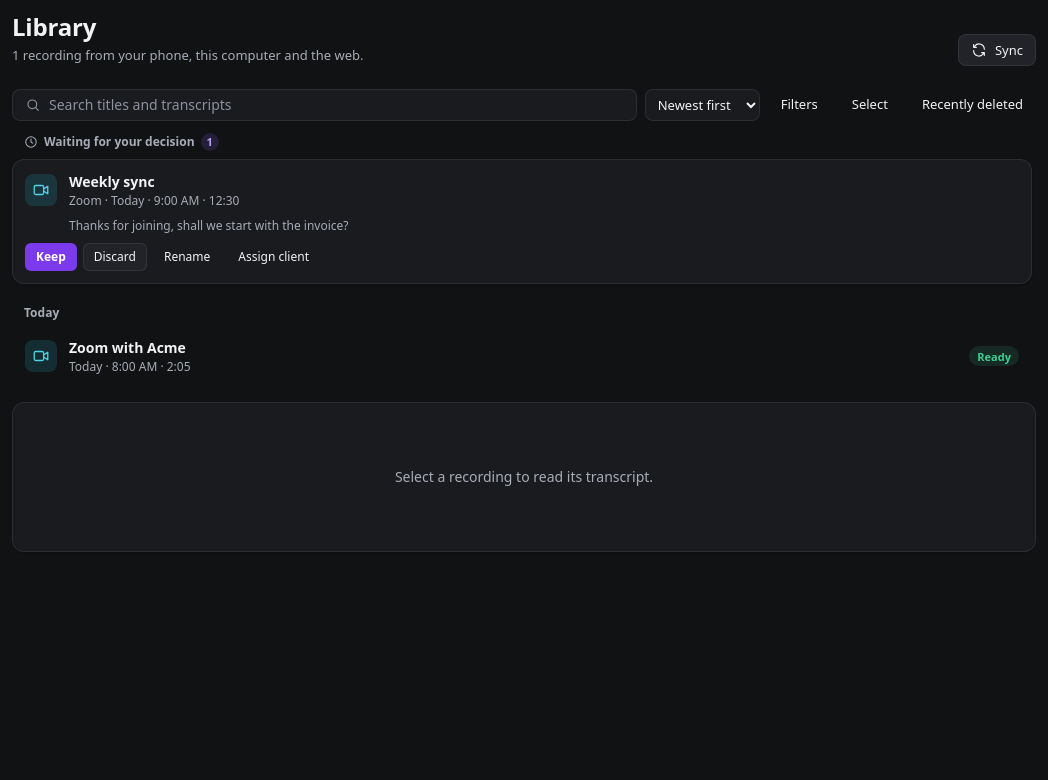
Test: Waiting for your decision: rename › opens the title for editing with the current title, focused
Click the button "Rename" at (187, 257), box left=153, top=243, right=221, bottom=271
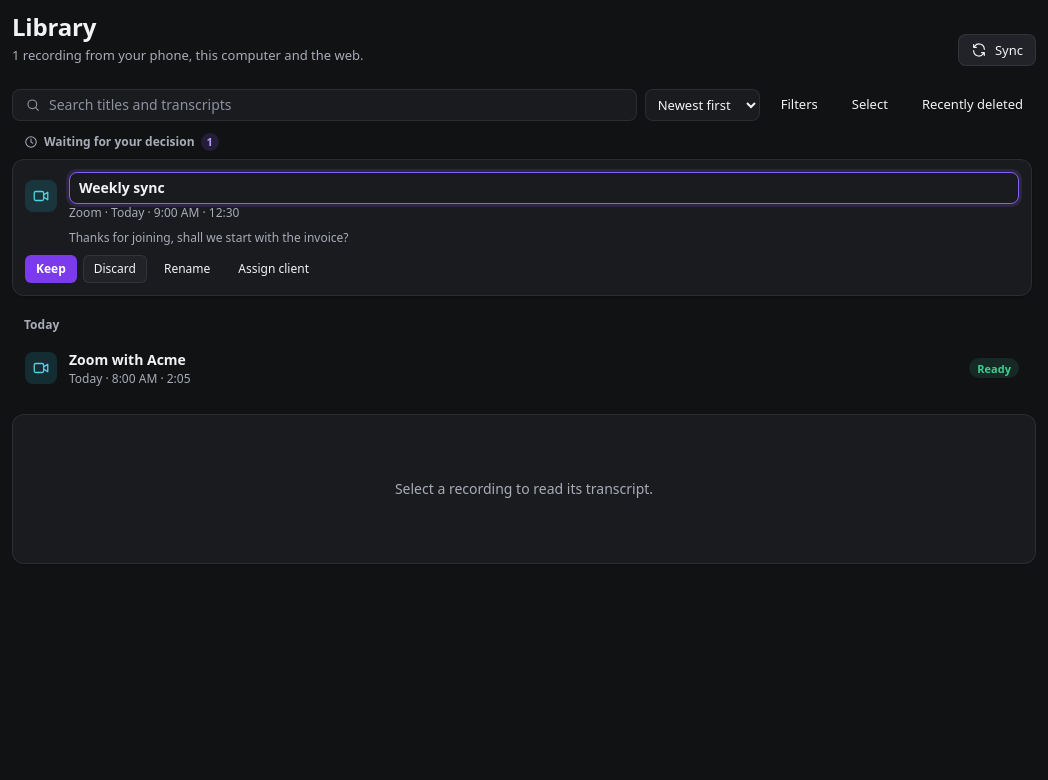
Check: the field named "Title" holds "Weekly sync", box left=69, top=172, right=1019, bottom=204
